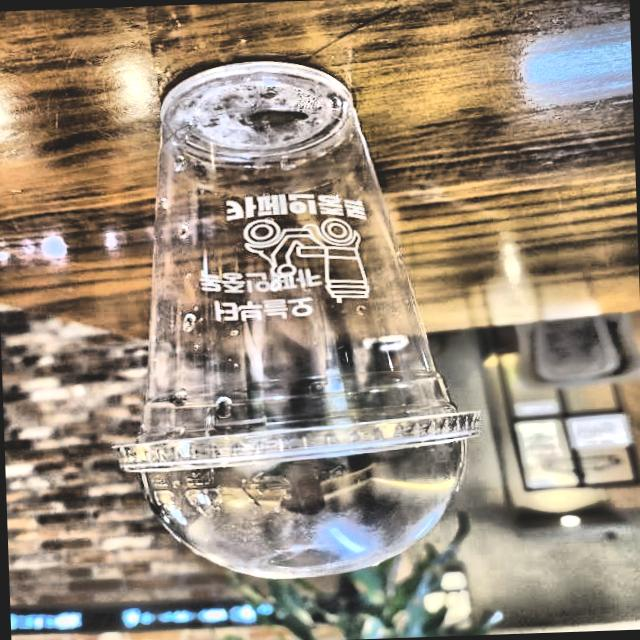plastic cup: (96, 45, 498, 600)
